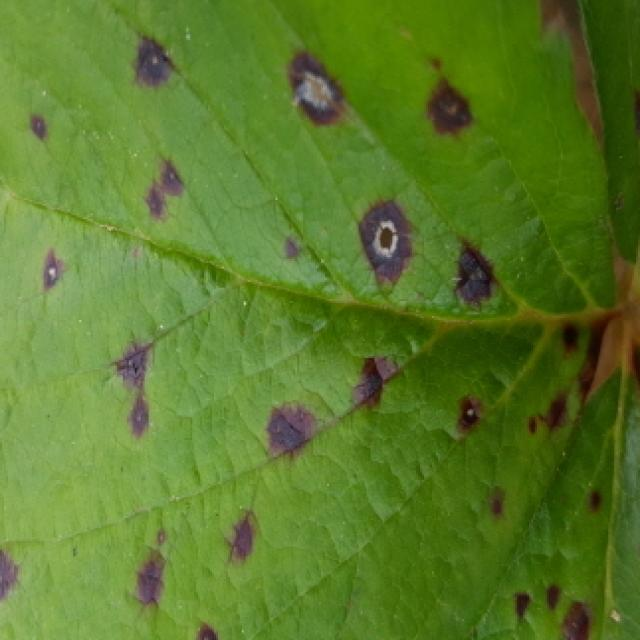Leaf Spot: (460, 330, 640, 640), (574, 0, 640, 276)
